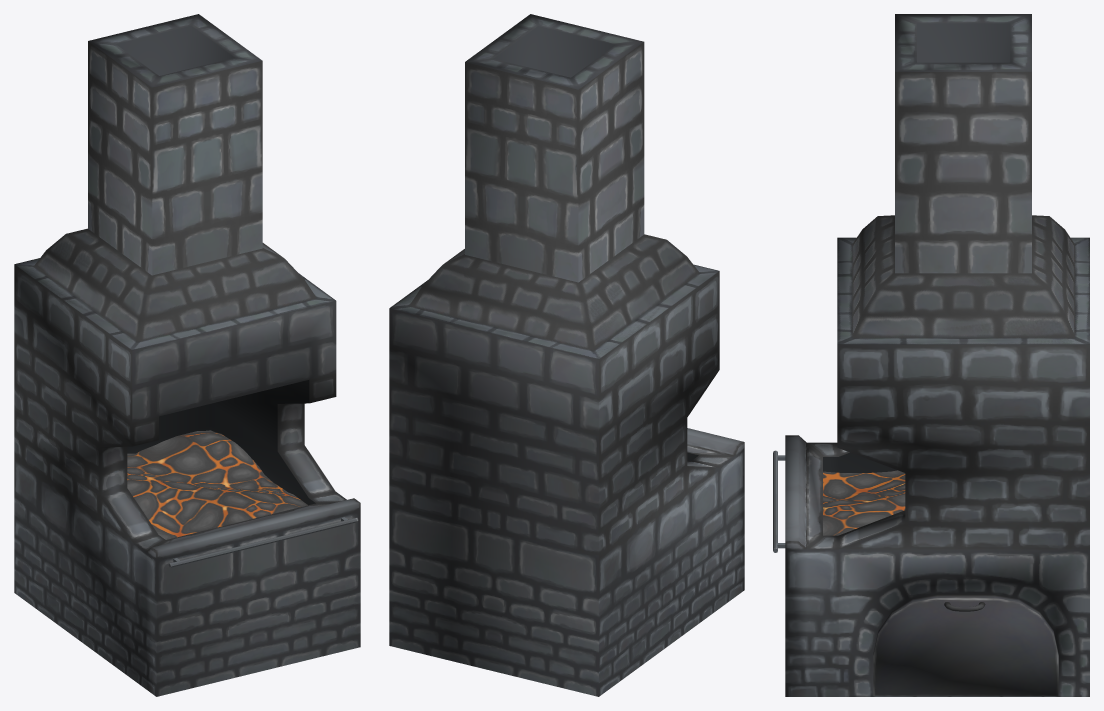
The model's file is Firnace.fbx.
The picture shows the model from 3 angles, left to right: view 1: azimuth 30°, elevation 25°; view 2: azimuth 150°, elevation 25°; view 3: azimuth 270°, elevation 25°; orthographic projection. The views are drawn at different scales.
Parts seen in each view (by area): view 1: furnace, coal_bed; view 2: furnace; view 3: furnace, coal_door, coal_bed.
Part boxes in pixels (left/top/right/bottom): furnace: left=14, top=14, right=360, bottom=696; coal_bed: left=127, top=430, right=307, bottom=539; furnace: left=389, top=14, right=744, bottom=696; furnace: left=773, top=14, right=1089, bottom=696; coal_door: left=873, top=594, right=1058, bottom=696; coal_bed: left=823, top=470, right=905, bottom=535.
Bounding box in the file's own units: 219 × 525 × 251.
